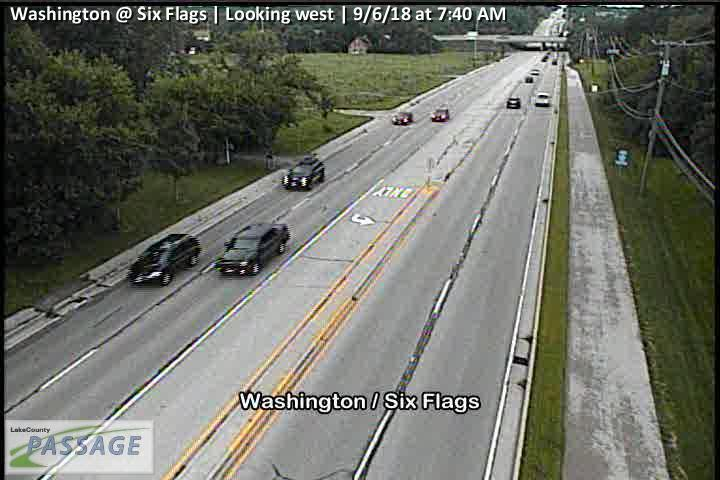SUV: (127, 232, 202, 288), (281, 154, 327, 192), (534, 92, 552, 106)
Sedan: (214, 221, 292, 278), (391, 109, 414, 126), (430, 107, 450, 122), (505, 96, 521, 109)
